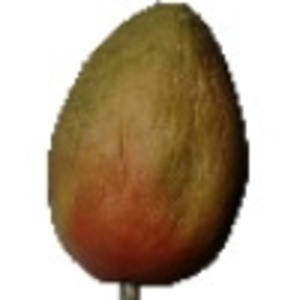mamão: (33, 3, 257, 291)
